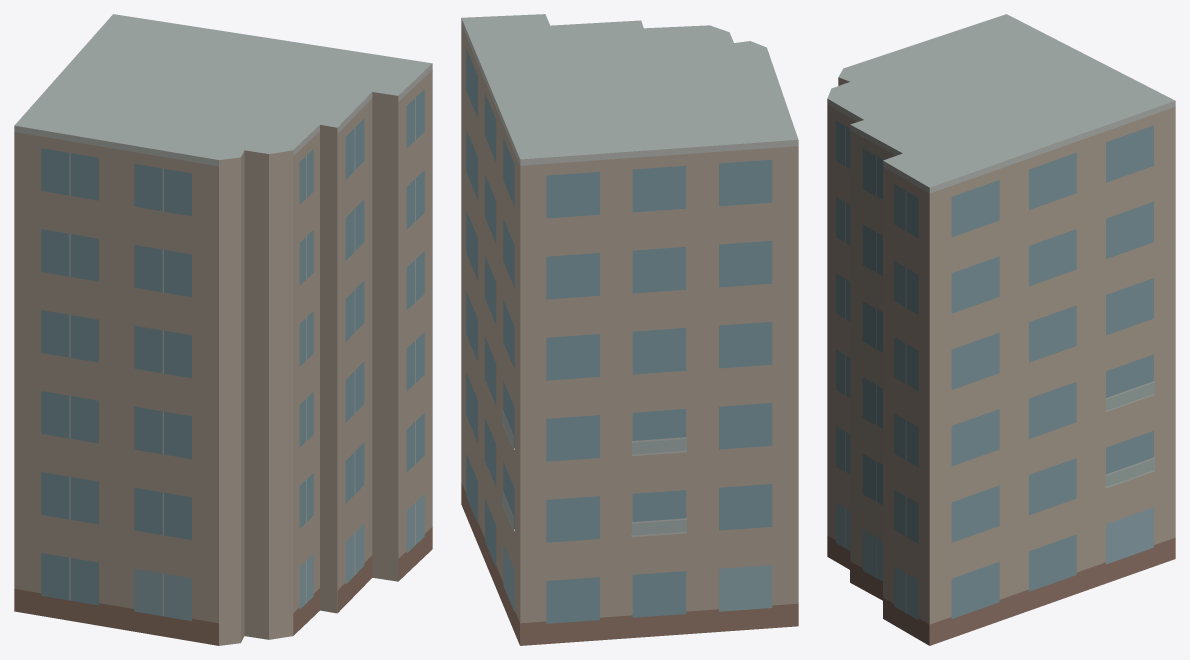
File: survey-upis-32577773.glb
The picture shows the model from 3 angles, left to right: view 1: azimuth 30°, elevation 25°; view 2: azimuth 150°, elevation 25°; view 3: azimuth 270°, elevation 25°; orthographic projection. The views are drawn at different scales.
Parts seen in each view (by area): view 1: survey-upis-32577773.tmp; view 2: survey-upis-32577773.tmp; view 3: survey-upis-32577773.tmp.
Boxes of the visible parts, <box> form: survey-upis-32577773.tmp: <box>14,14,432,645</box>; survey-upis-32577773.tmp: <box>461,14,798,645</box>; survey-upis-32577773.tmp: <box>827,14,1175,645</box>.
Size of the model in its own units: 15.3 by 18.8 by 12.96.
